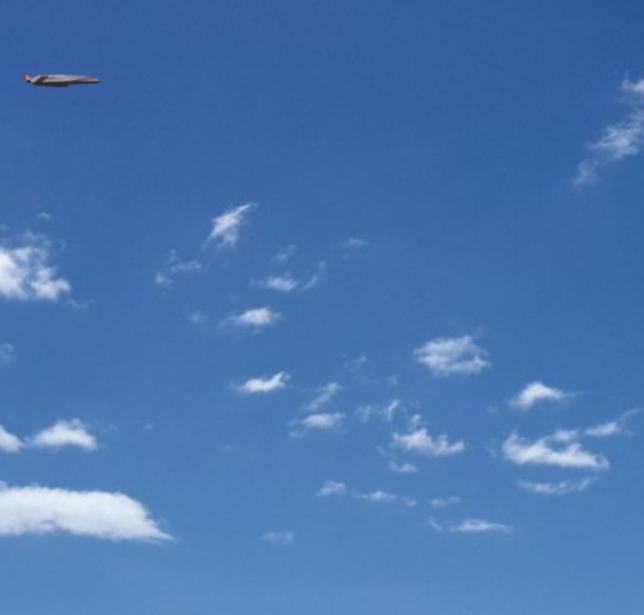military drone: (19, 72, 101, 87)
